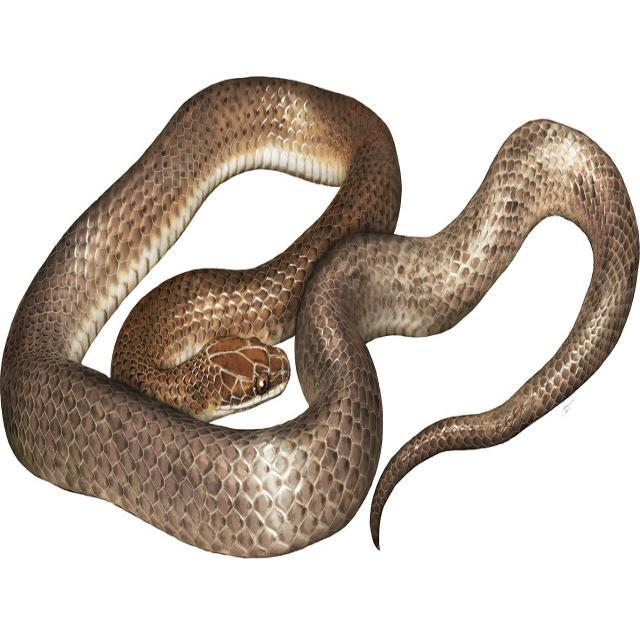Snake: (0, 58, 640, 582)
